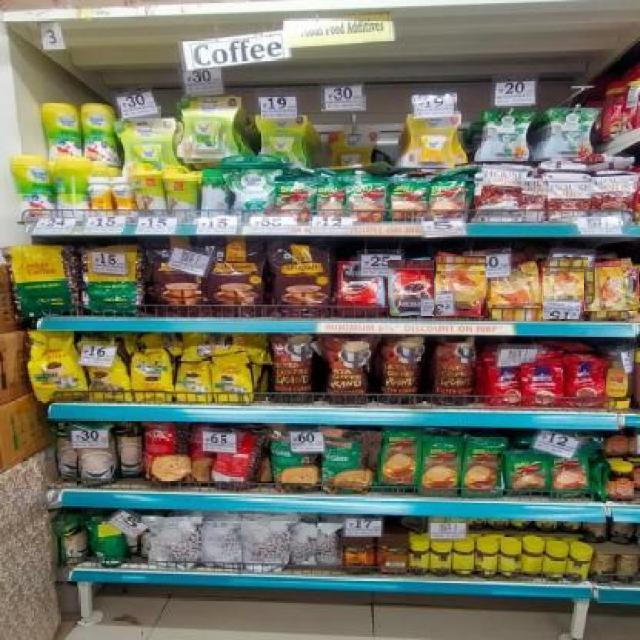Coffee: (435, 255, 486, 316), (490, 256, 539, 319), (336, 260, 386, 319), (542, 257, 588, 319), (387, 259, 434, 316), (584, 268, 640, 311)
